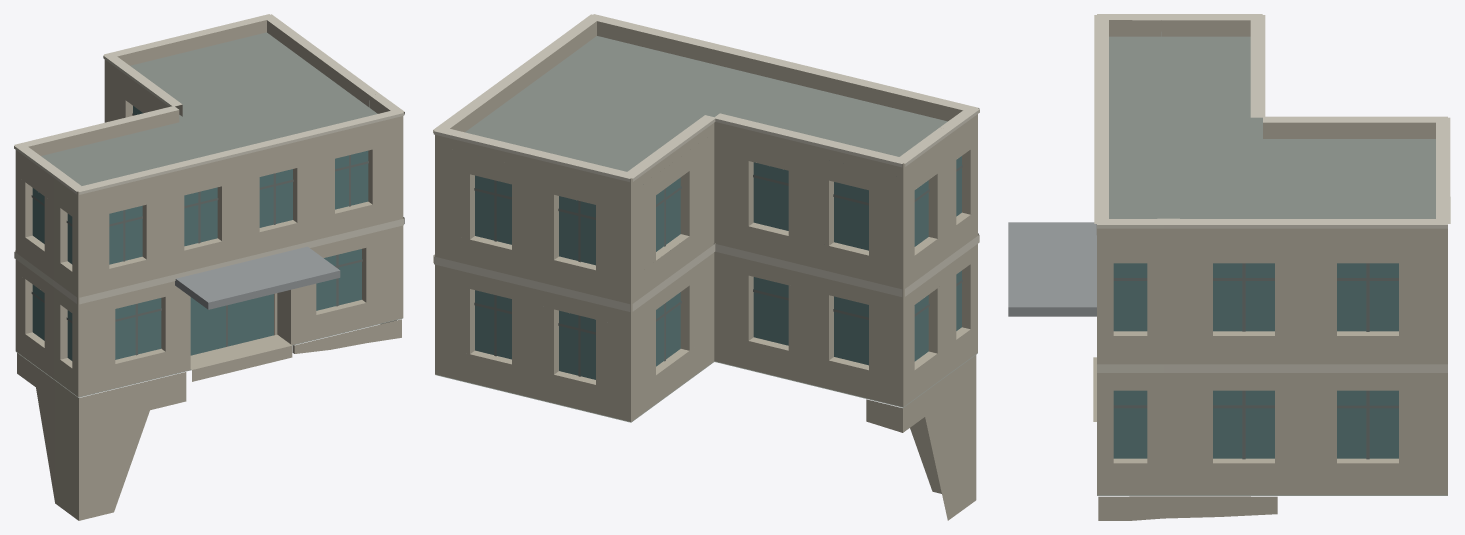
3 views of the same model, side by side, from view 1: azimuth 30°, elevation 25°; view 2: azimuth 150°, elevation 25°; view 3: azimuth 270°, elevation 25° (orthographic). The views are drawn at different scales.
Parts seen in each view (by area): view 1: osm432300547__wall, osm432300547__roof, osm432300547__glass, osm432300547__foundationSkirt, osm432300547__trim, osm432300547__parapet, osm432300547__canopy, osm432300547__entranceThreshold_0, osm432300547__frame; view 2: osm432300547__wall, osm432300547__roof, osm432300547__glass, osm432300547__trim, osm432300547__parapet, osm432300547__foundationSkirt, osm432300547__frame; view 3: osm432300547__wall, osm432300547__roof, osm432300547__glass, osm432300547__trim, osm432300547__parapet, osm432300547__canopy, osm432300547__foundationSkirt, osm432300547__frame.
Boxes of the visible parts, box(x1,y1,x2,y2) form: osm432300547__wall: box(15, 68, 403, 397); osm432300547__roof: box(16, 32, 402, 397); osm432300547__glass: box(32, 106, 368, 360); osm432300547__foundationSkirt: box(17, 319, 401, 520); osm432300547__trim: box(14, 14, 404, 304); osm432300547__parapet: box(15, 20, 403, 203); osm432300547__canopy: box(175, 246, 340, 309); osm432300547__entranceThreshold_0: box(190, 334, 292, 381); osm432300547__frame: box(31, 113, 368, 355); osm432300547__wall: box(435, 124, 977, 421); osm432300547__roof: box(435, 36, 977, 422); osm432300547__glass: box(475, 156, 961, 379); osm432300547__trim: box(433, 14, 979, 311); osm432300547__parapet: box(435, 21, 977, 192); osm432300547__foundationSkirt: box(866, 355, 976, 520); osm432300547__frame: box(474, 165, 962, 376); osm432300547__wall: box(1097, 240, 1447, 495); osm432300547__roof: box(1097, 32, 1447, 495); osm432300547__glass: box(1113, 263, 1398, 458); osm432300547__trim: box(1094, 14, 1450, 372); osm432300547__parapet: box(1096, 20, 1447, 240); osm432300547__canopy: box(1008, 222, 1096, 316); osm432300547__foundationSkirt: box(1098, 496, 1277, 520); osm432300547__frame: box(1113, 263, 1398, 459).
Size of the model in its own units: 12.43 by 11.95 by 11.
